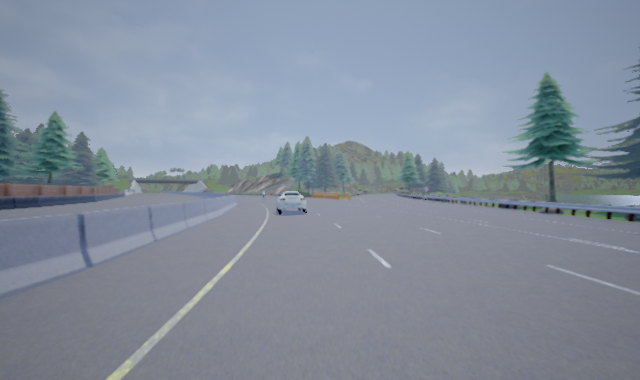vehicle: (275, 190, 308, 214)
